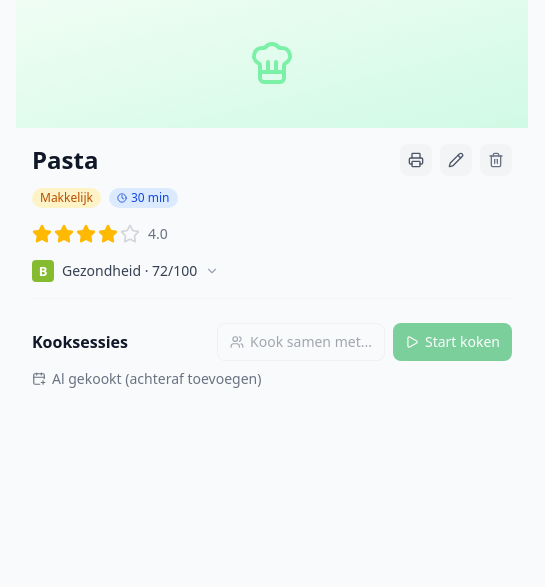
Scenario: RecipeDetail healthiness › shows the grade and expands rationale + tip
Check: the heading "Pasta" is shown, box [32,144,98,176]
Click the text "Gezondheid · 72/100". click: click(130, 271)
box: [62,261,197,281]
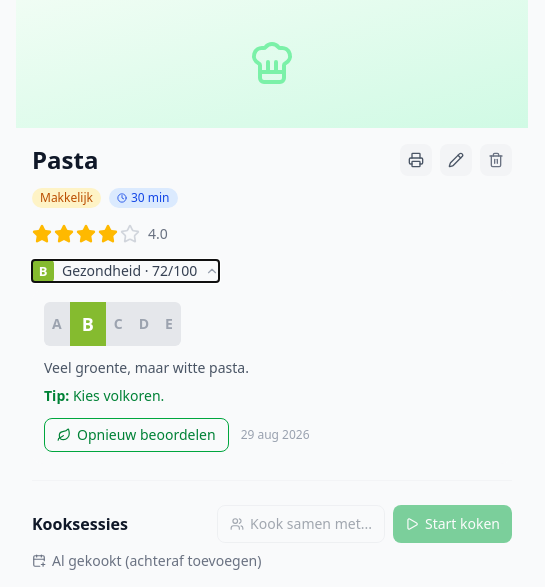
Check: the text "Veel groente, maar witte pasta." is shown, box [44,358,249,377]
Check: the text "Kies volkoren." is shown, box [73,386,164,405]
